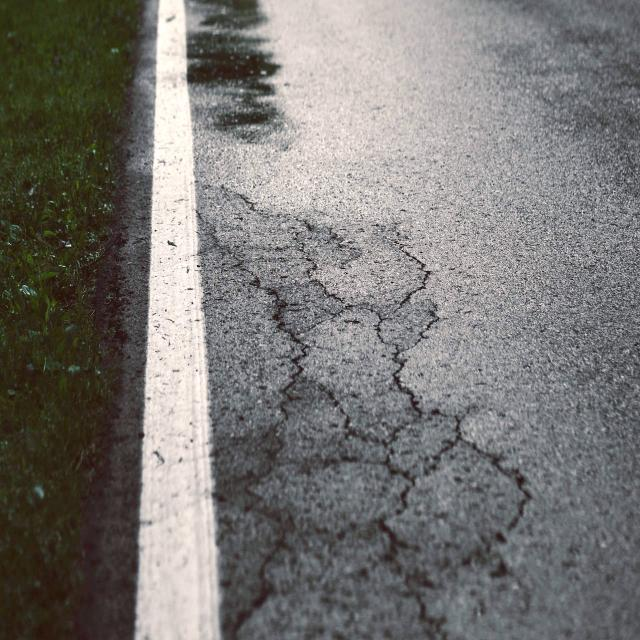Pothole: (32, 49, 528, 640)
